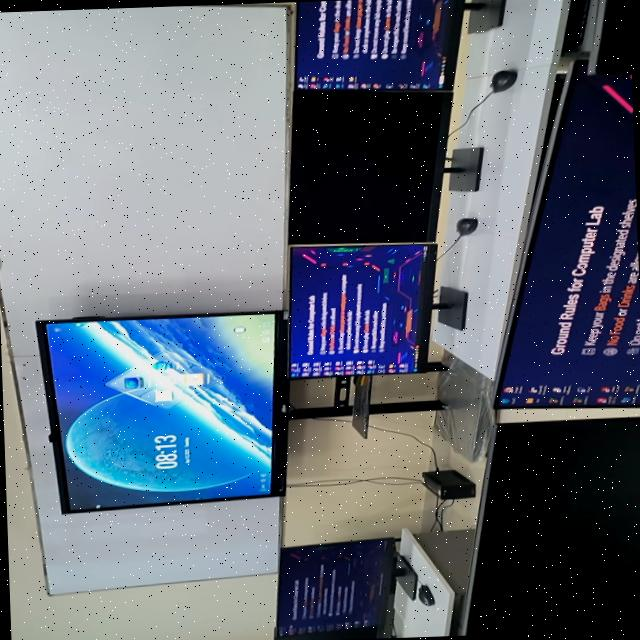Digital board: (36, 310, 497, 512)
Keyboard: (563, 0, 589, 49)
Monitor: (494, 61, 640, 408), (465, 417, 640, 635), (288, 88, 483, 244), (289, 242, 466, 375), (294, 0, 484, 89), (276, 537, 414, 635), (589, 0, 632, 73), (274, 625, 376, 640)
Mouse: (490, 69, 517, 91), (417, 583, 434, 605), (456, 217, 477, 234)
